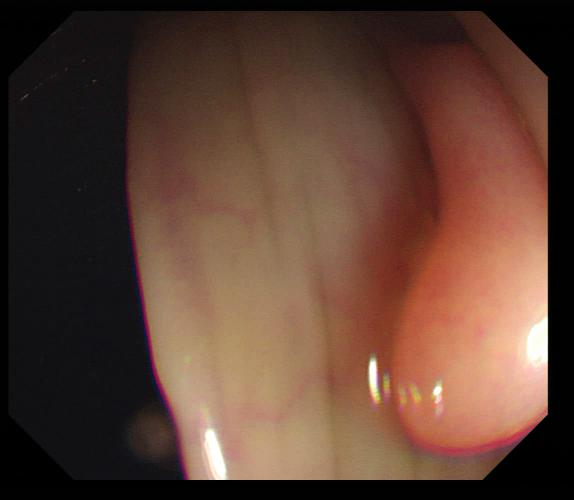polyp: (389, 41, 547, 453)
